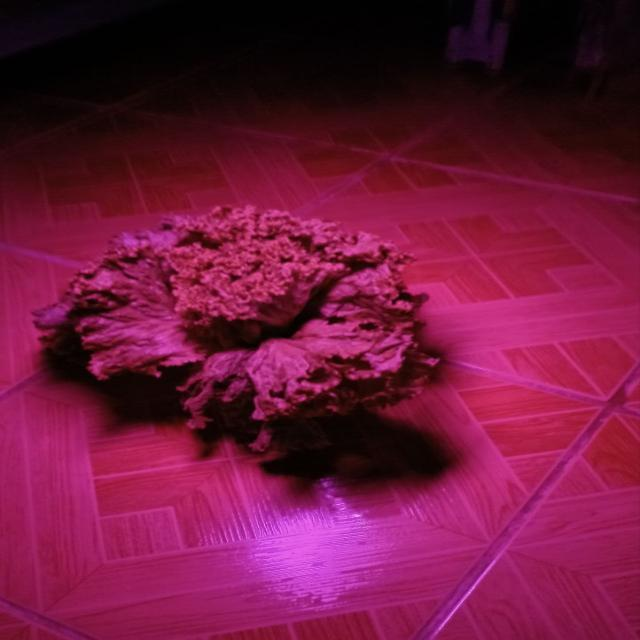Lettuce-Ready-to-Harvest: (35, 206, 439, 452)
